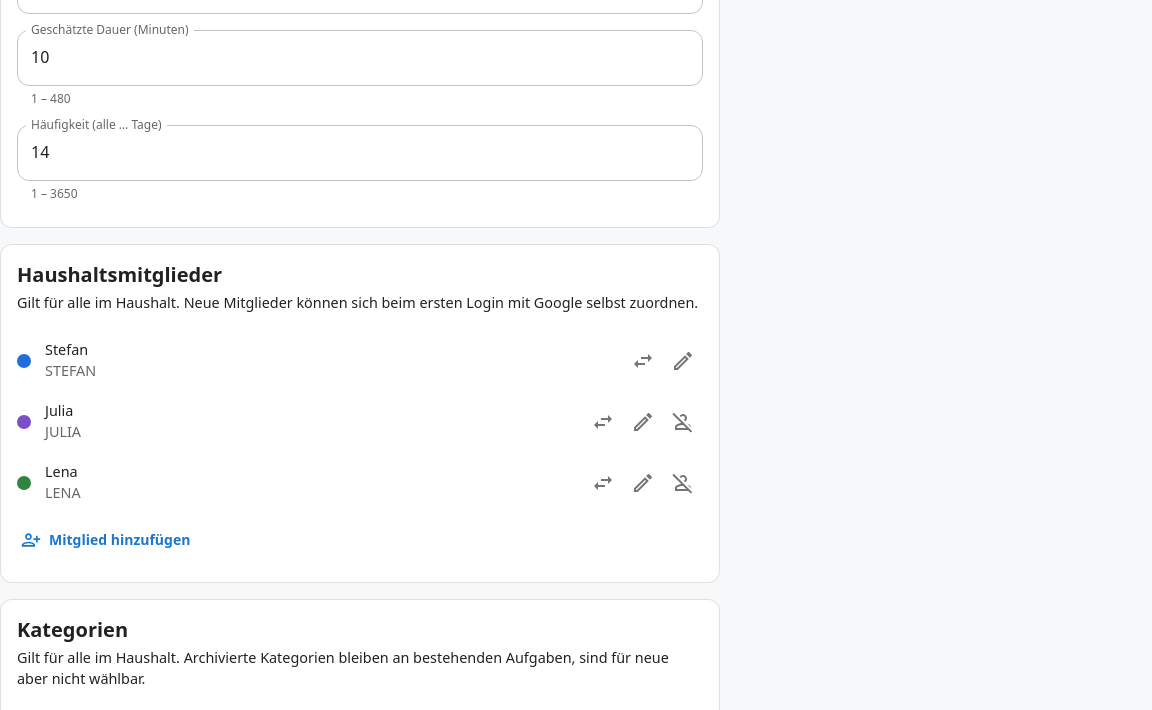
it: handover dialog › filters by category in the preview and the request
(page scrolled)
Click the button named "Aufgaben von Stefan übergeben" at (643, 361), box [623,341,663,381]
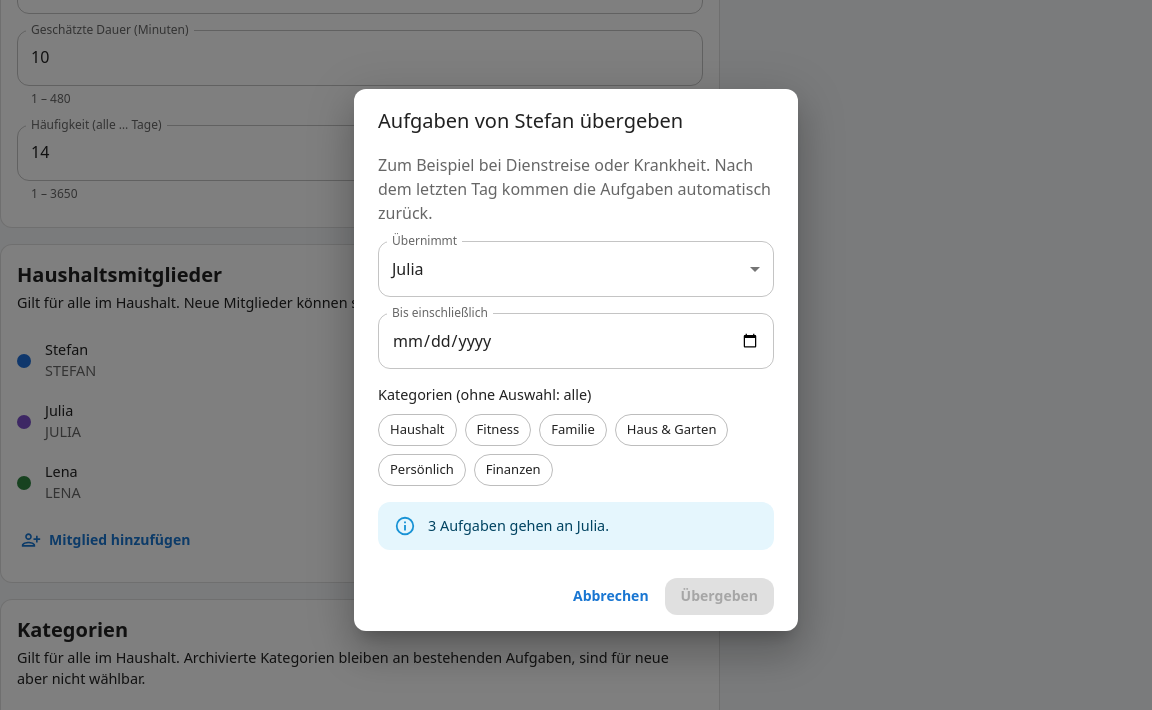
Result: the text "3 Aufgaben gehen an Julia." is shown at [428,516,609,535]
Click the button "Haus & Garten" at (672, 430), box [615,414,728,446]
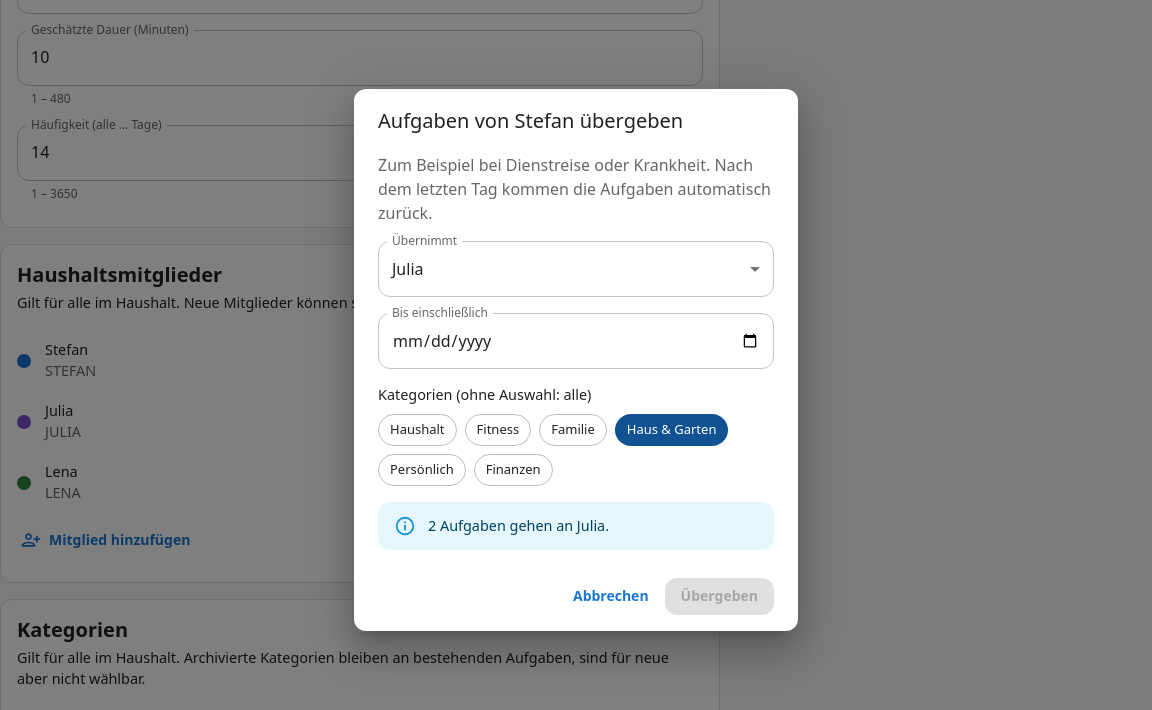
Result: the message reads "2 Aufgaben gehen an Julia." at [428,516,609,535]
Type "2099-12-31" into the date field labelled "Bis einschließlich" at (576, 341), box [378,313,774,369]
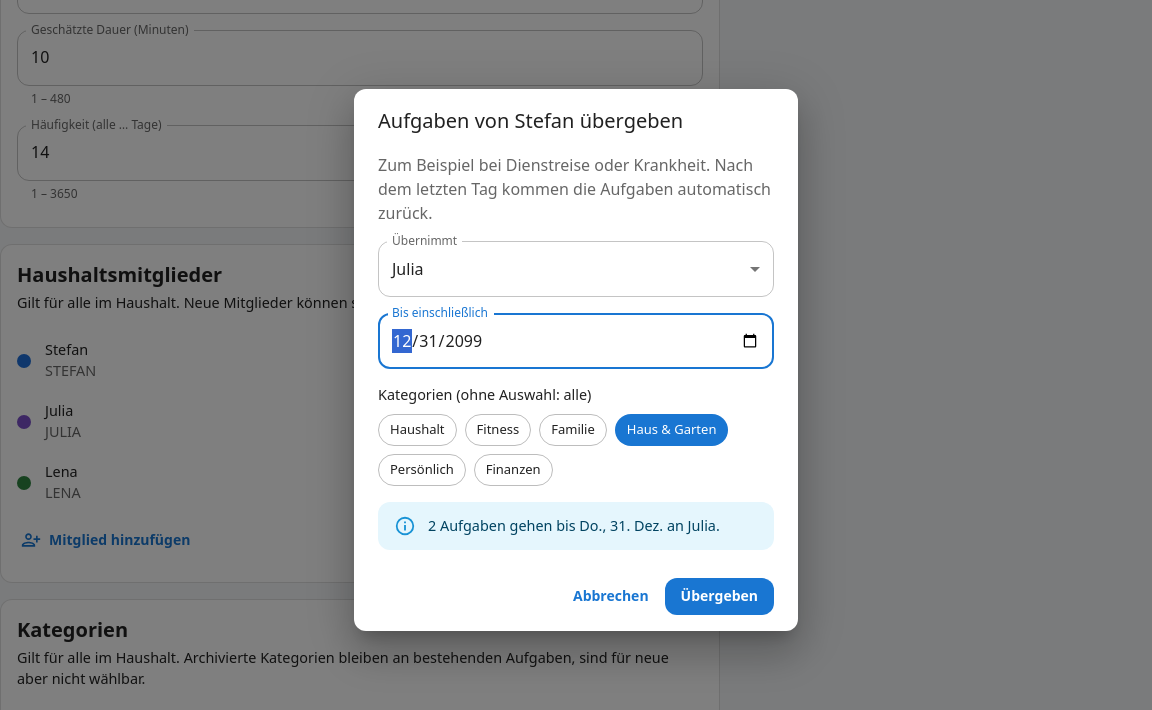
Click the button "Übergeben" at (719, 597), box [665,578,774,615]
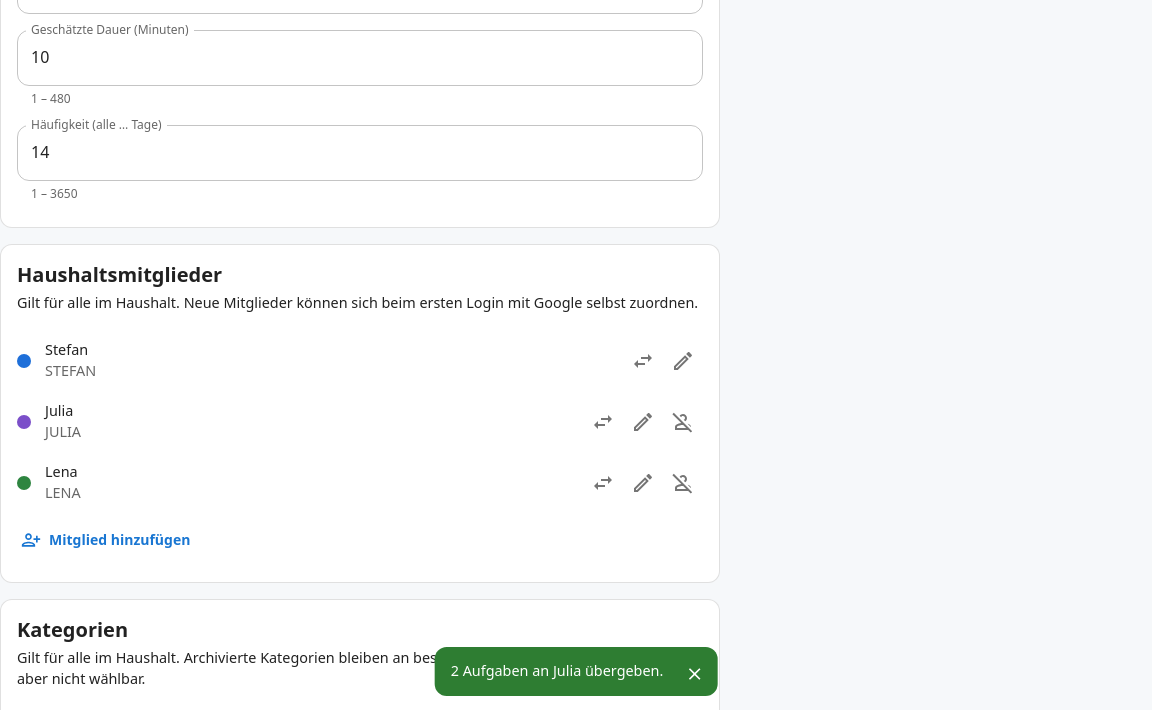
Result: the text "2 Aufgaben an Julia übergeben." is shown at [451,661,663,680]
